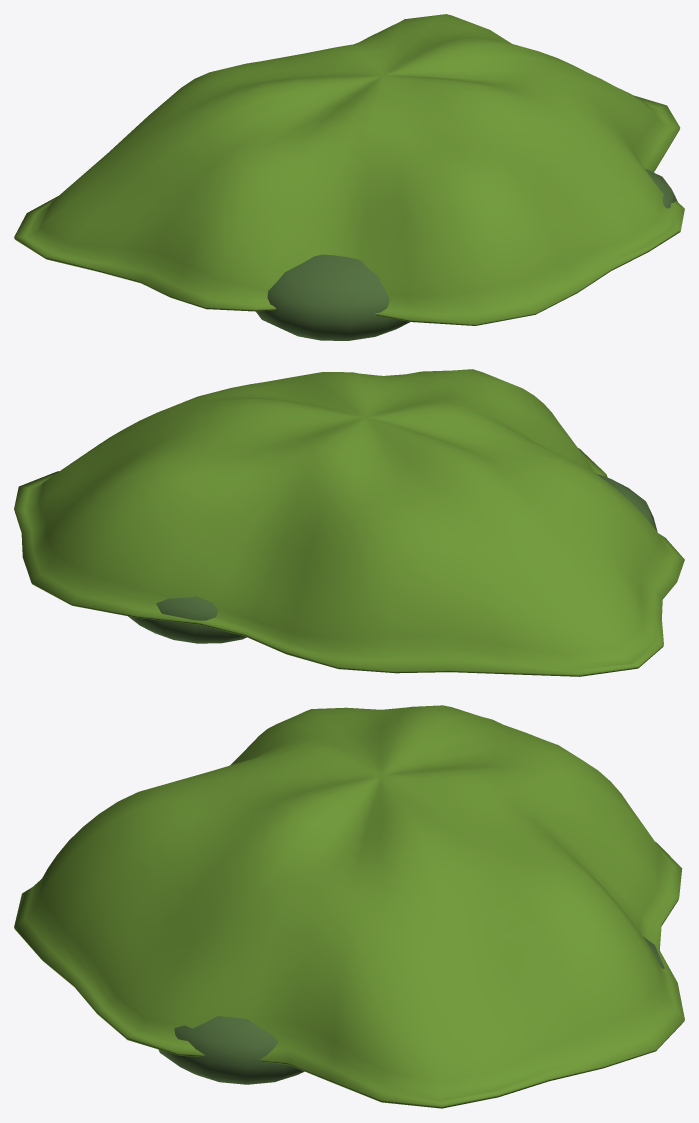
File: sh_moss_clump_m.fbx
The picture shows the model from 3 angles, top to bottom: view 1: azimuth 30°, elevation 25°; view 2: azimuth 150°, elevation 25°; view 3: azimuth 270°, elevation 25°; orthographic projection. The views are drawn at different scales.
Parts seen in each view (by area): view 1: SH_Moss_Clump_M; view 2: SH_Moss_Clump_M; view 3: SH_Moss_Clump_M.
Part boxes in pixels (bbox=[...]): SH_Moss_Clump_M: bbox=[14, 14, 684, 340]; SH_Moss_Clump_M: bbox=[14, 369, 684, 676]; SH_Moss_Clump_M: bbox=[14, 705, 684, 1108].
Bounding box in the file's own units: 31.84 × 8.41 × 24.57.
